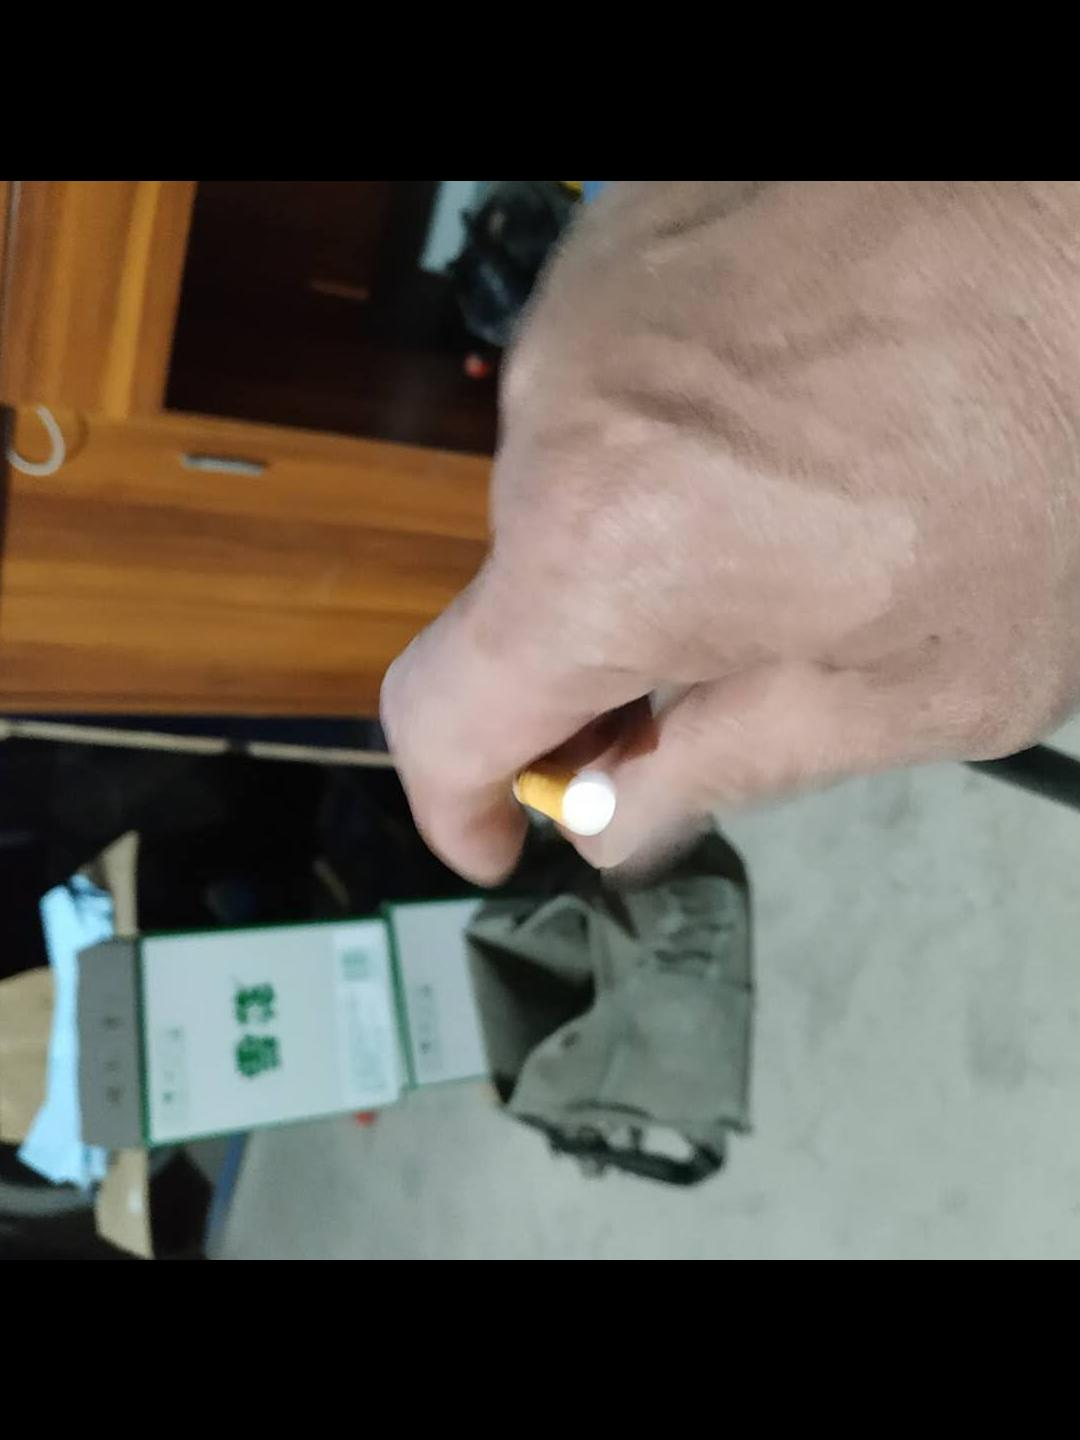Cigarette: (493, 766, 621, 832)
